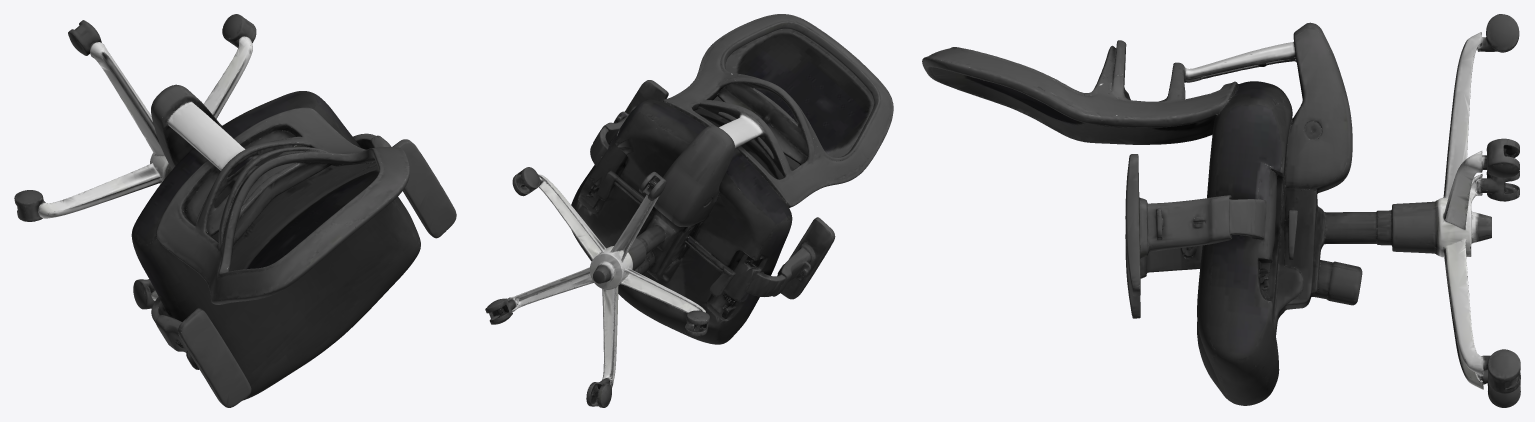
File: final_2nd_floor_3.glb
3 renders of one model, left to right at view 1: azimuth 30°, elevation 25°; view 2: azimuth 150°, elevation 25°; view 3: azimuth 270°, elevation 25°, orthographic. The views are drawn at different scales.
Visible parts, largest first — view 1: Ramdhan.003; view 2: Ramdhan.003; view 3: Ramdhan.003.
Part boxes in pixels (left/top/right/bottom): Ramdhan.003: left=14, top=14, right=456, bottom=407; Ramdhan.003: left=485, top=14, right=893, bottom=407; Ramdhan.003: left=922, top=14, right=1520, bottom=407.
Bounding box in the file's own units: 0.0207 × 0.0211 × 0.0323.
Materials: 1 (1 with a texture image).
